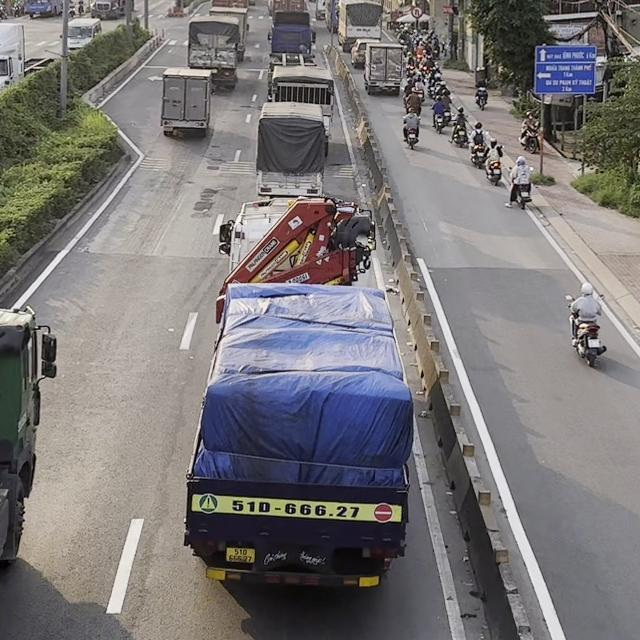motorcycle: (564, 293, 606, 367), (507, 166, 533, 209), (483, 144, 505, 186), (469, 131, 489, 169), (450, 112, 471, 148), (518, 125, 540, 154), (402, 117, 420, 149), (430, 104, 446, 134), (474, 86, 488, 110)
truck: (182, 194, 415, 590), (0, 305, 57, 565), (255, 101, 329, 198), (271, 65, 334, 158), (267, 10, 317, 102), (187, 17, 240, 90), (160, 67, 215, 137), (336, 0, 383, 52), (208, 5, 249, 61), (363, 41, 405, 95)
